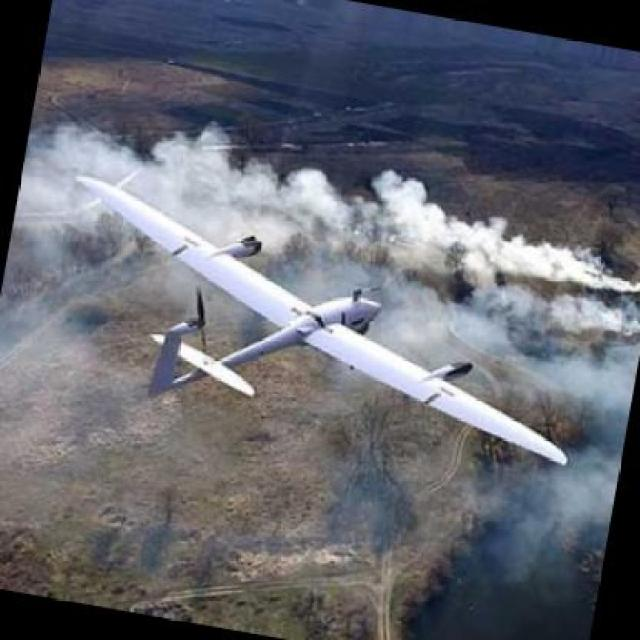iha: (75, 174, 568, 475)
